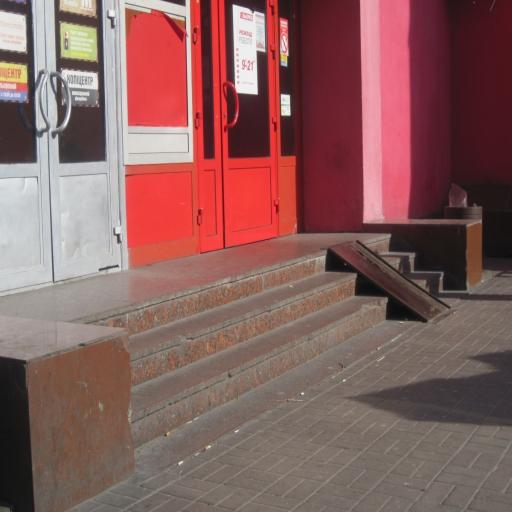ramp: (326, 238, 452, 322)
stairs: (122, 252, 390, 447)
